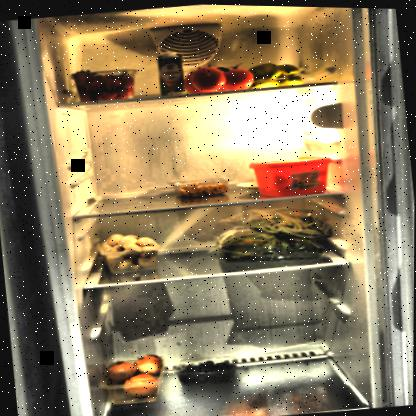banana: (247, 57, 303, 90)
blueberries: (181, 355, 241, 391)
butter: (247, 147, 339, 204)
green_beans: (226, 200, 334, 248)
heavy_cream: (155, 49, 187, 94)
mushrooms: (94, 228, 165, 274)
onion: (104, 348, 173, 403)
shrimp: (174, 175, 233, 198)
spinach: (212, 215, 330, 266)
strawberries: (66, 62, 142, 103)
tomato: (180, 54, 257, 95)
